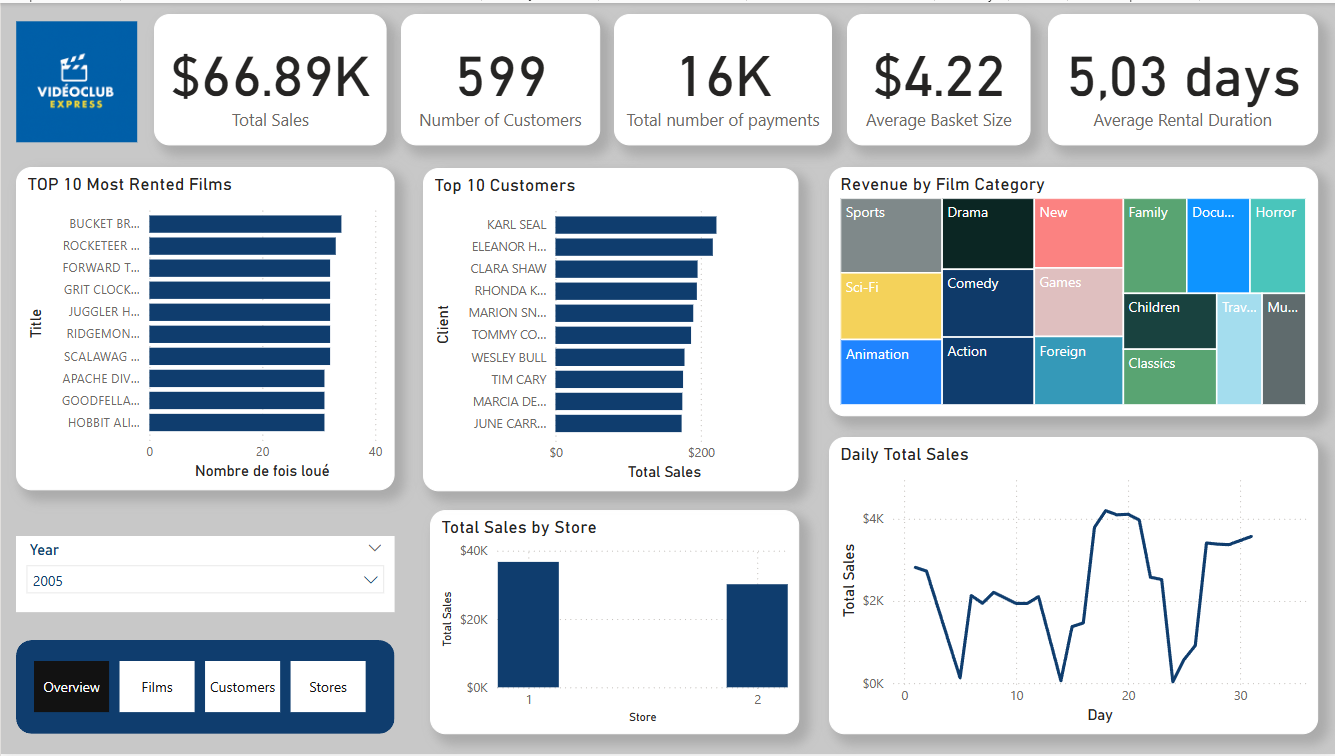

The page's visual inventory and layout, read from the dashboard file:
{"tool":"powerbi","page":{"name":"Overview","canvas":[1280,720],"ordinal":0},"visuals":[{"type":"card","fields":{"Values":["sakila payment.Total sales"]},"box":[146.9,10.7,222.7,126.4],"z":0},{"type":"card","fields":{"Values":["sakila actor.Nombre de clients"]},"box":[383.6,10.9,190.9,126.4],"z":1000},{"type":"card","fields":{"Values":["sakila payment.Nombre total de paiement"]},"box":[588,11,209,126],"z":2000},{"type":"card","fields":{"Values":["sakila payment.Panier Moyen"]},"box":[811,11,176,126],"z":3000},{"type":"lineChart","title":"Daily Total Sales","fields":{"Category":["Calendar.Date.Variation.Hiérarchie de dates.Année","Calendar.Date.Variation.Hiérarchie de dates.Trimestre","Calendar.Date.Variation.Hiérarchie de dates.Mois","Calendar.Date.Variation.Hiérarchie de dates.Jour"],"Y":["sakila payment.Total sales"]},"box":[793.7,416.3,468.8,285],"z":4000},{"type":"barChart","title":"TOP 10 Most Rented Films","fields":{"Category":["sakila film_les_plus_loues.title"],"Y":["sakila film_les_plus_loues.COUNT(rental_id)"]},"box":[14.6,157.6,362.8,310.3],"z":5000},{"type":"treemap","title":"Revenue by Film Category","fields":{"Values":["sakila revenu_par_category_de_film.SUM(amount)"],"Details":["sakila revenu_par_category_de_film.name"]},"box":[793.7,157.6,468.8,239.3],"z":6000},{"type":"columnChart","title":"Total Sales by Store","fields":{"Y":["sakila payment.Total sales"],"Category":["sakila store.store_id"]},"box":[411,486,354,215],"z":7000},{"type":"barChart","title":"Top 10 Customers","fields":{"Y":["sakila payment.Total sales"],"Category":["sakila customer.Nom complet"]},"box":[405,158,360,310],"z":8000},{"type":"card","fields":{"Values":["sakila rental.Durée moyenne de location"]},"box":[1003.6,10.9,259.1,126.4],"z":9000},{"type":"slicer","fields":{"Values":["Calendar.Date.Variation.Hiérarchie de dates.Année"]},"box":[14.6,510.6,362.8,72.9],"z":10000},{"type":"shape","box":[14.6,610.8,362.8,90.5],"z":11000},{"type":"pageNavigator","box":[32.1,631.2,321,49.6],"z":12000},{"type":"image","box":[9.7,10.7,126.4,130.3],"z":13000}]}

Visuals, with their boxes in screenshot pixels (x1, y1, x2, y2), scaled from the page's 1280x720 canvas onto the 1335x756 screenshot:
card - sakila payment.Total sales: locate(153, 11, 385, 144)
card - sakila actor.Nombre de clients: locate(400, 11, 599, 144)
card - sakila payment.Nombre total de paiement: locate(613, 12, 831, 144)
card - sakila payment.Panier Moyen: locate(846, 12, 1029, 144)
"Daily Total Sales" lineChart: locate(828, 437, 1317, 736)
"TOP 10 Most Rented Films" barChart: locate(15, 165, 394, 491)
"Revenue by Film Category" treemap: locate(828, 165, 1317, 417)
"Total Sales by Store" columnChart: locate(429, 510, 798, 736)
"Top 10 Customers" barChart: locate(422, 166, 798, 491)
card - sakila rental.Durée moyenne de location: locate(1047, 11, 1317, 144)
slicer - Calendar.Date.Variation.Hiérarchie de dates.Année: locate(15, 536, 394, 613)
shape: locate(15, 641, 394, 736)
pageNavigator: locate(33, 663, 368, 715)
image: locate(10, 11, 142, 148)
